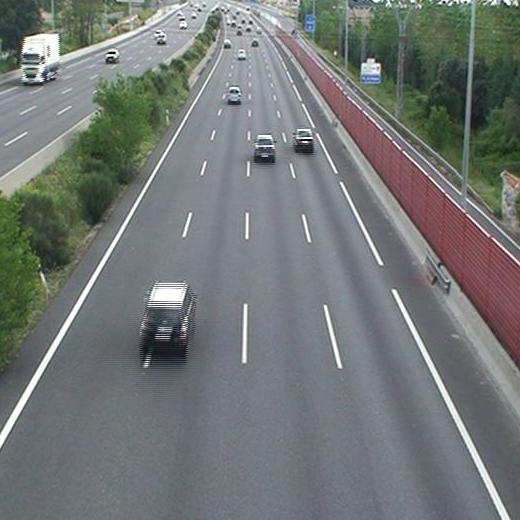car: (139, 284, 192, 349), (254, 136, 275, 160), (293, 129, 313, 149), (227, 87, 240, 102), (237, 48, 246, 59)
